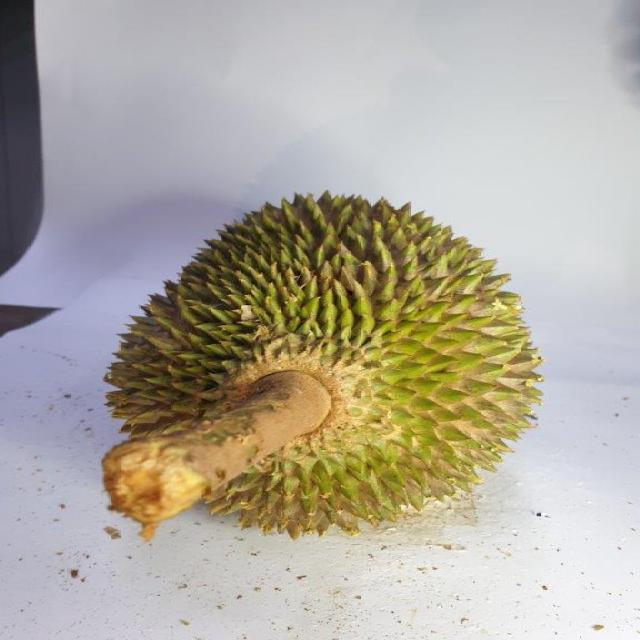immature: (101, 186, 551, 542)
